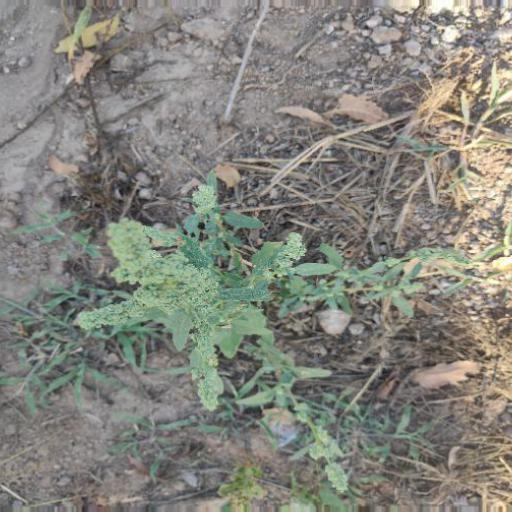weed: (97, 214, 378, 426)
